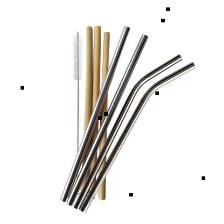drinking_straw: (73, 58, 198, 215)
